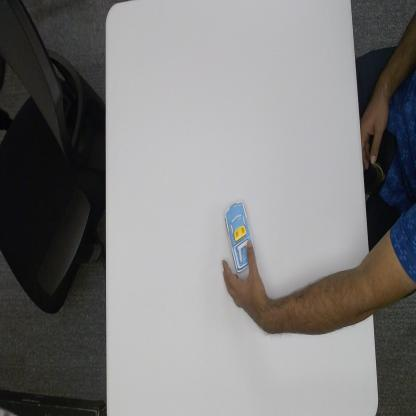Arm: (267, 261, 371, 338)
Car: (224, 198, 257, 272)
Hand: (221, 238, 266, 328)
